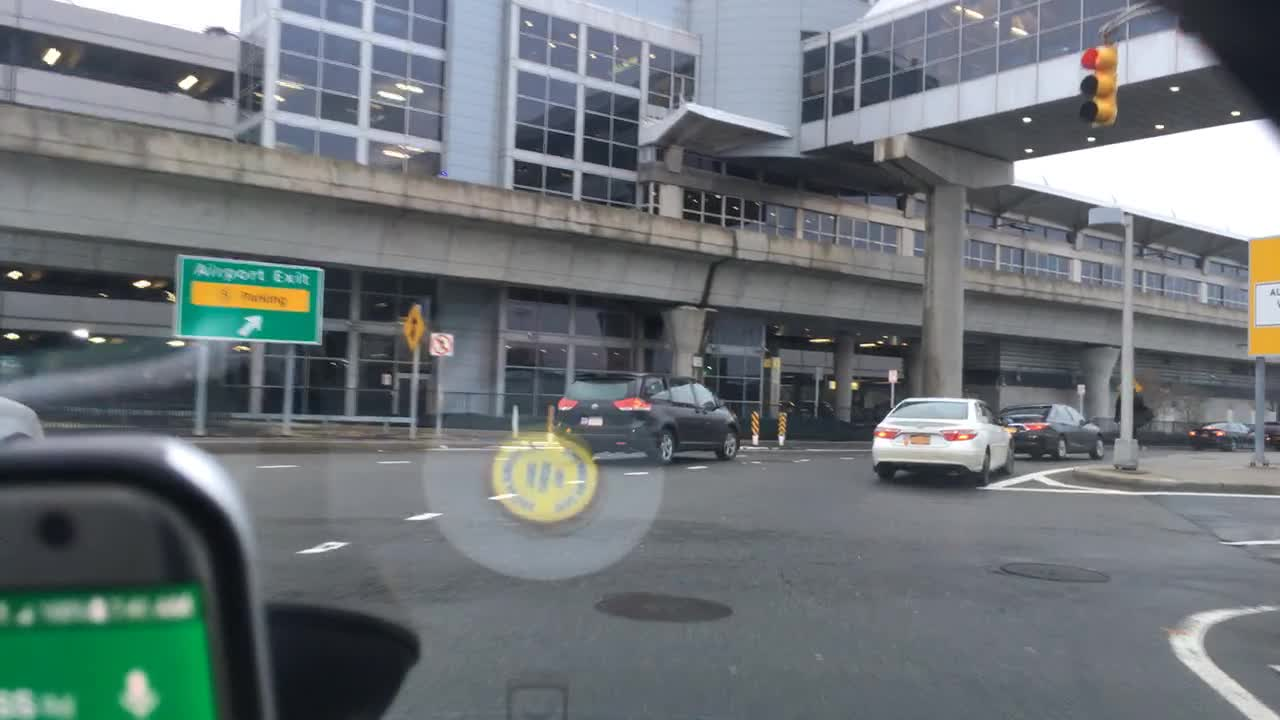car: (552, 370, 745, 468), (869, 394, 1016, 485), (996, 402, 1107, 462), (1, 395, 42, 455), (1185, 419, 1259, 452), (797, 398, 837, 433), (779, 395, 803, 434), (1248, 417, 1279, 447)
traffic light: (1079, 46, 1118, 127)
traffic sign: (173, 254, 329, 349), (401, 303, 428, 350), (429, 333, 454, 356)
